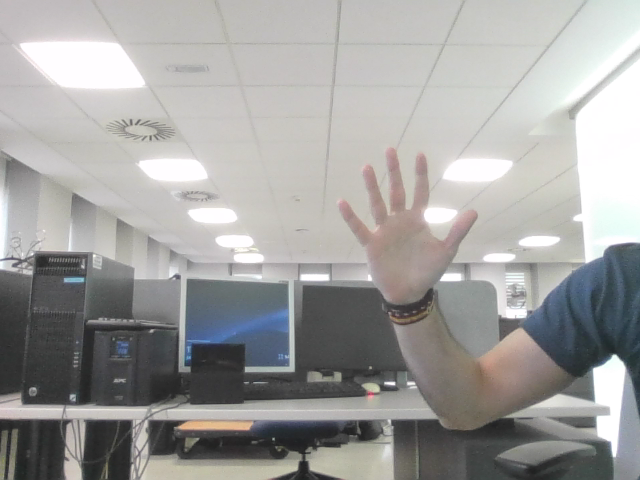Mano Abierta: (349, 159, 465, 268)
